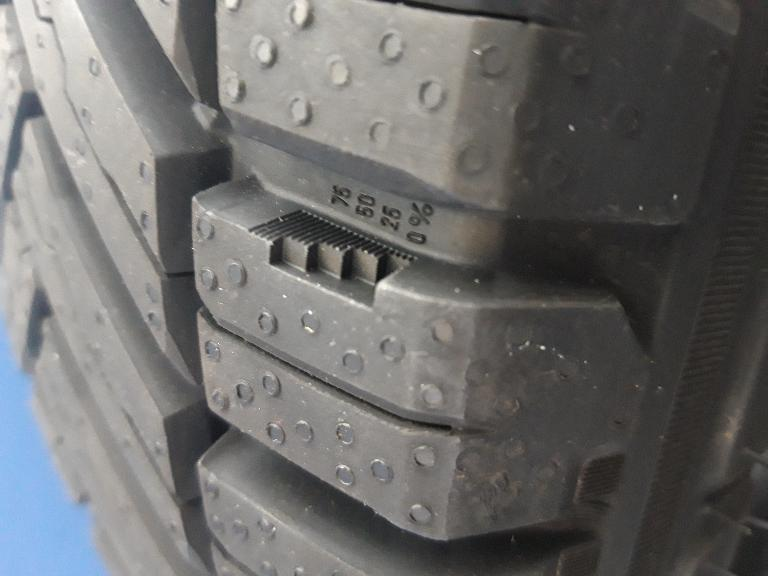temoin:100: (246, 207, 420, 315)
